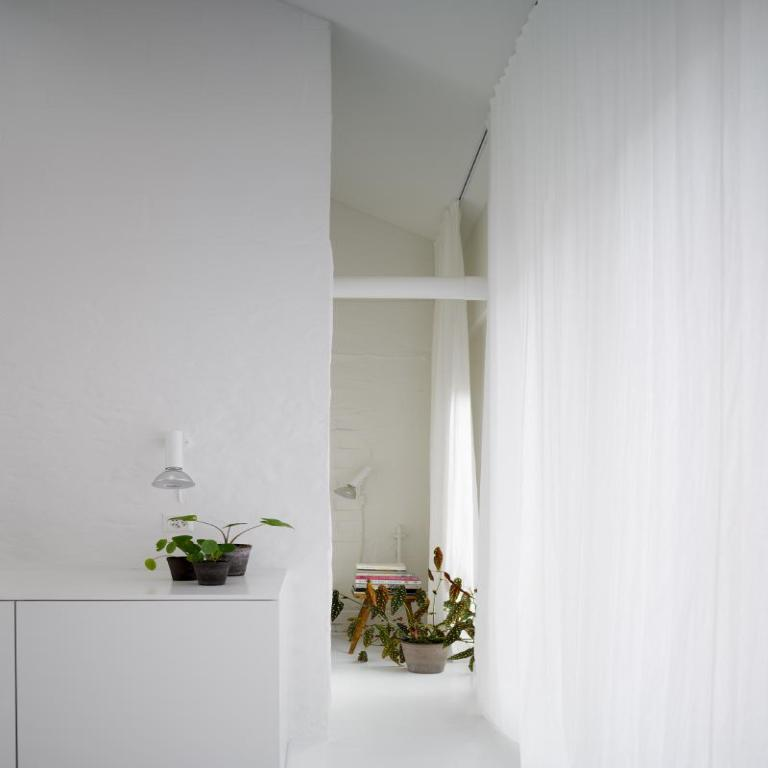white-walls: (15, 28, 298, 563)
